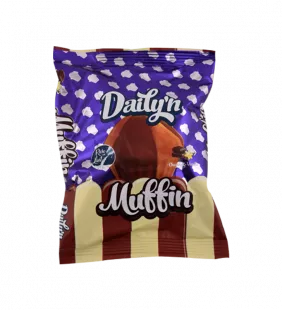DAILY'N: (44, 36, 235, 274)
